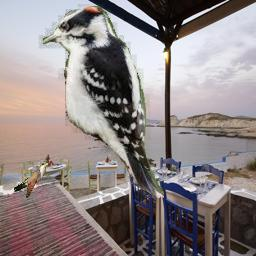Cuckoo: (14, 162, 48, 199)
Woodpecker: (33, 4, 164, 198)
